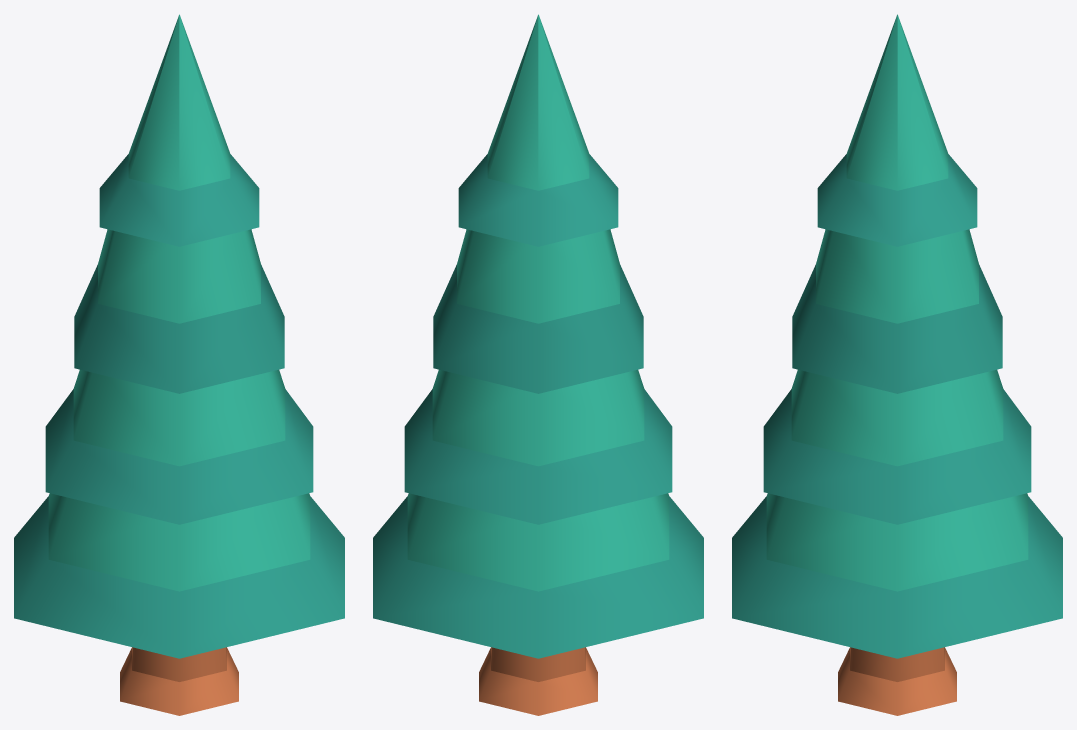
Rendered from pine.obj.
3 renders of one model, left to right at view 1: azimuth 30°, elevation 25°; view 2: azimuth 150°, elevation 25°; view 3: azimuth 270°, elevation 25°, orthographic.
Visible parts, largest first — view 1: pine; view 2: pine; view 3: pine.
Part boxes in pixels (x1,y1,x2,y2): pine: [14, 14, 344, 715]; pine: [373, 14, 703, 715]; pine: [732, 14, 1062, 715].
Size of the model in its own units: 1.18 by 2.29 by 1.02.
